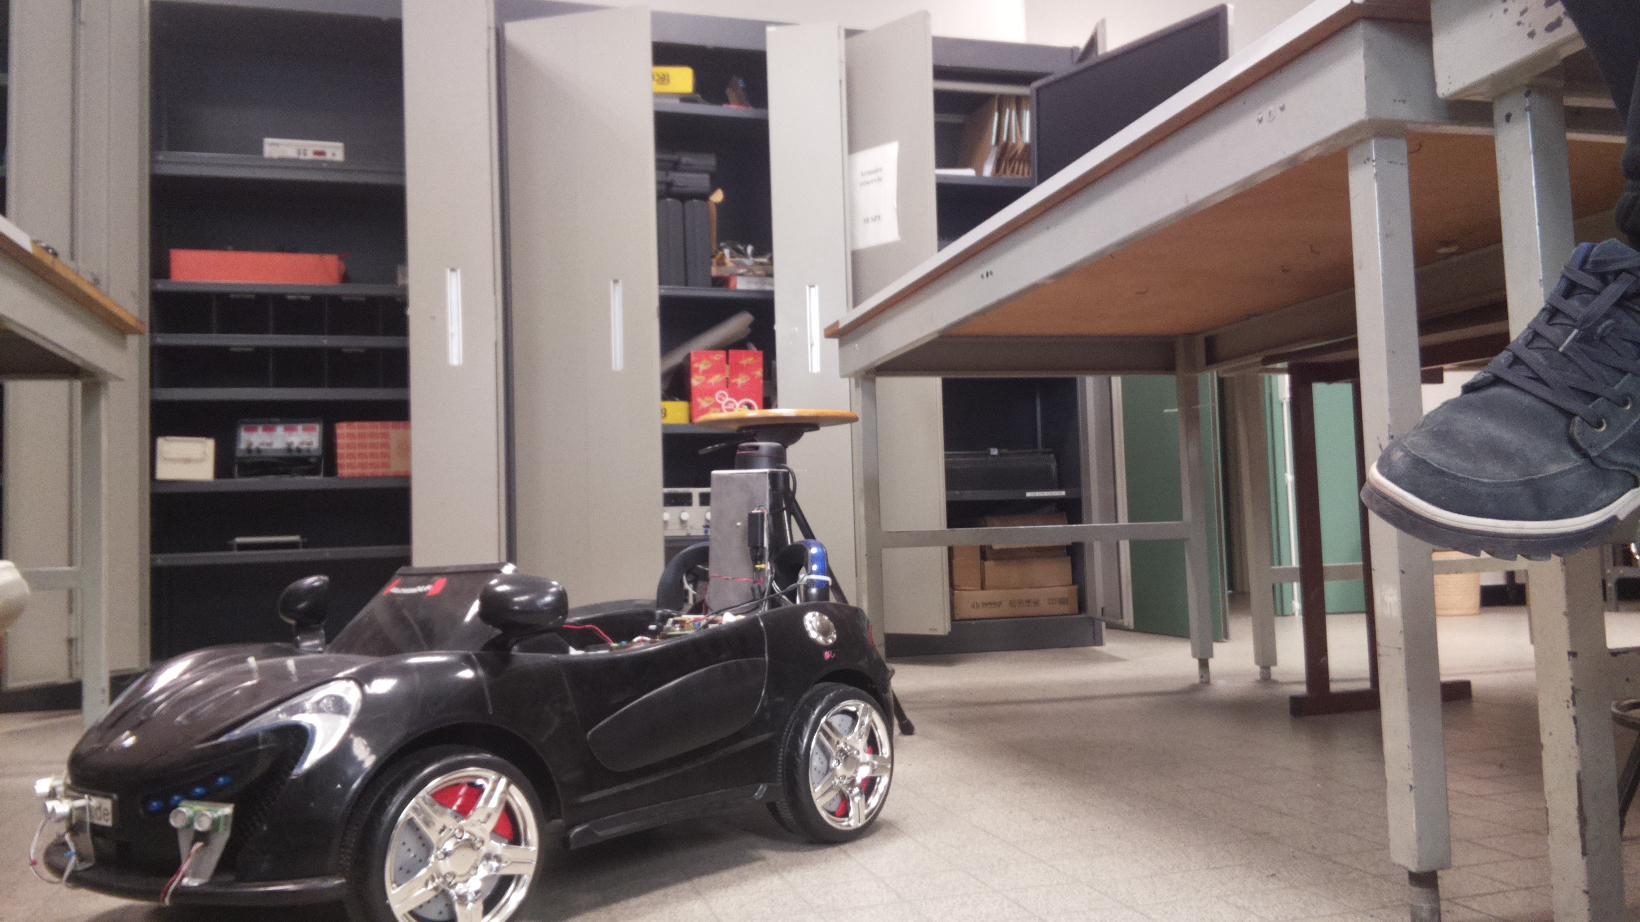big: (26, 537, 901, 922)
